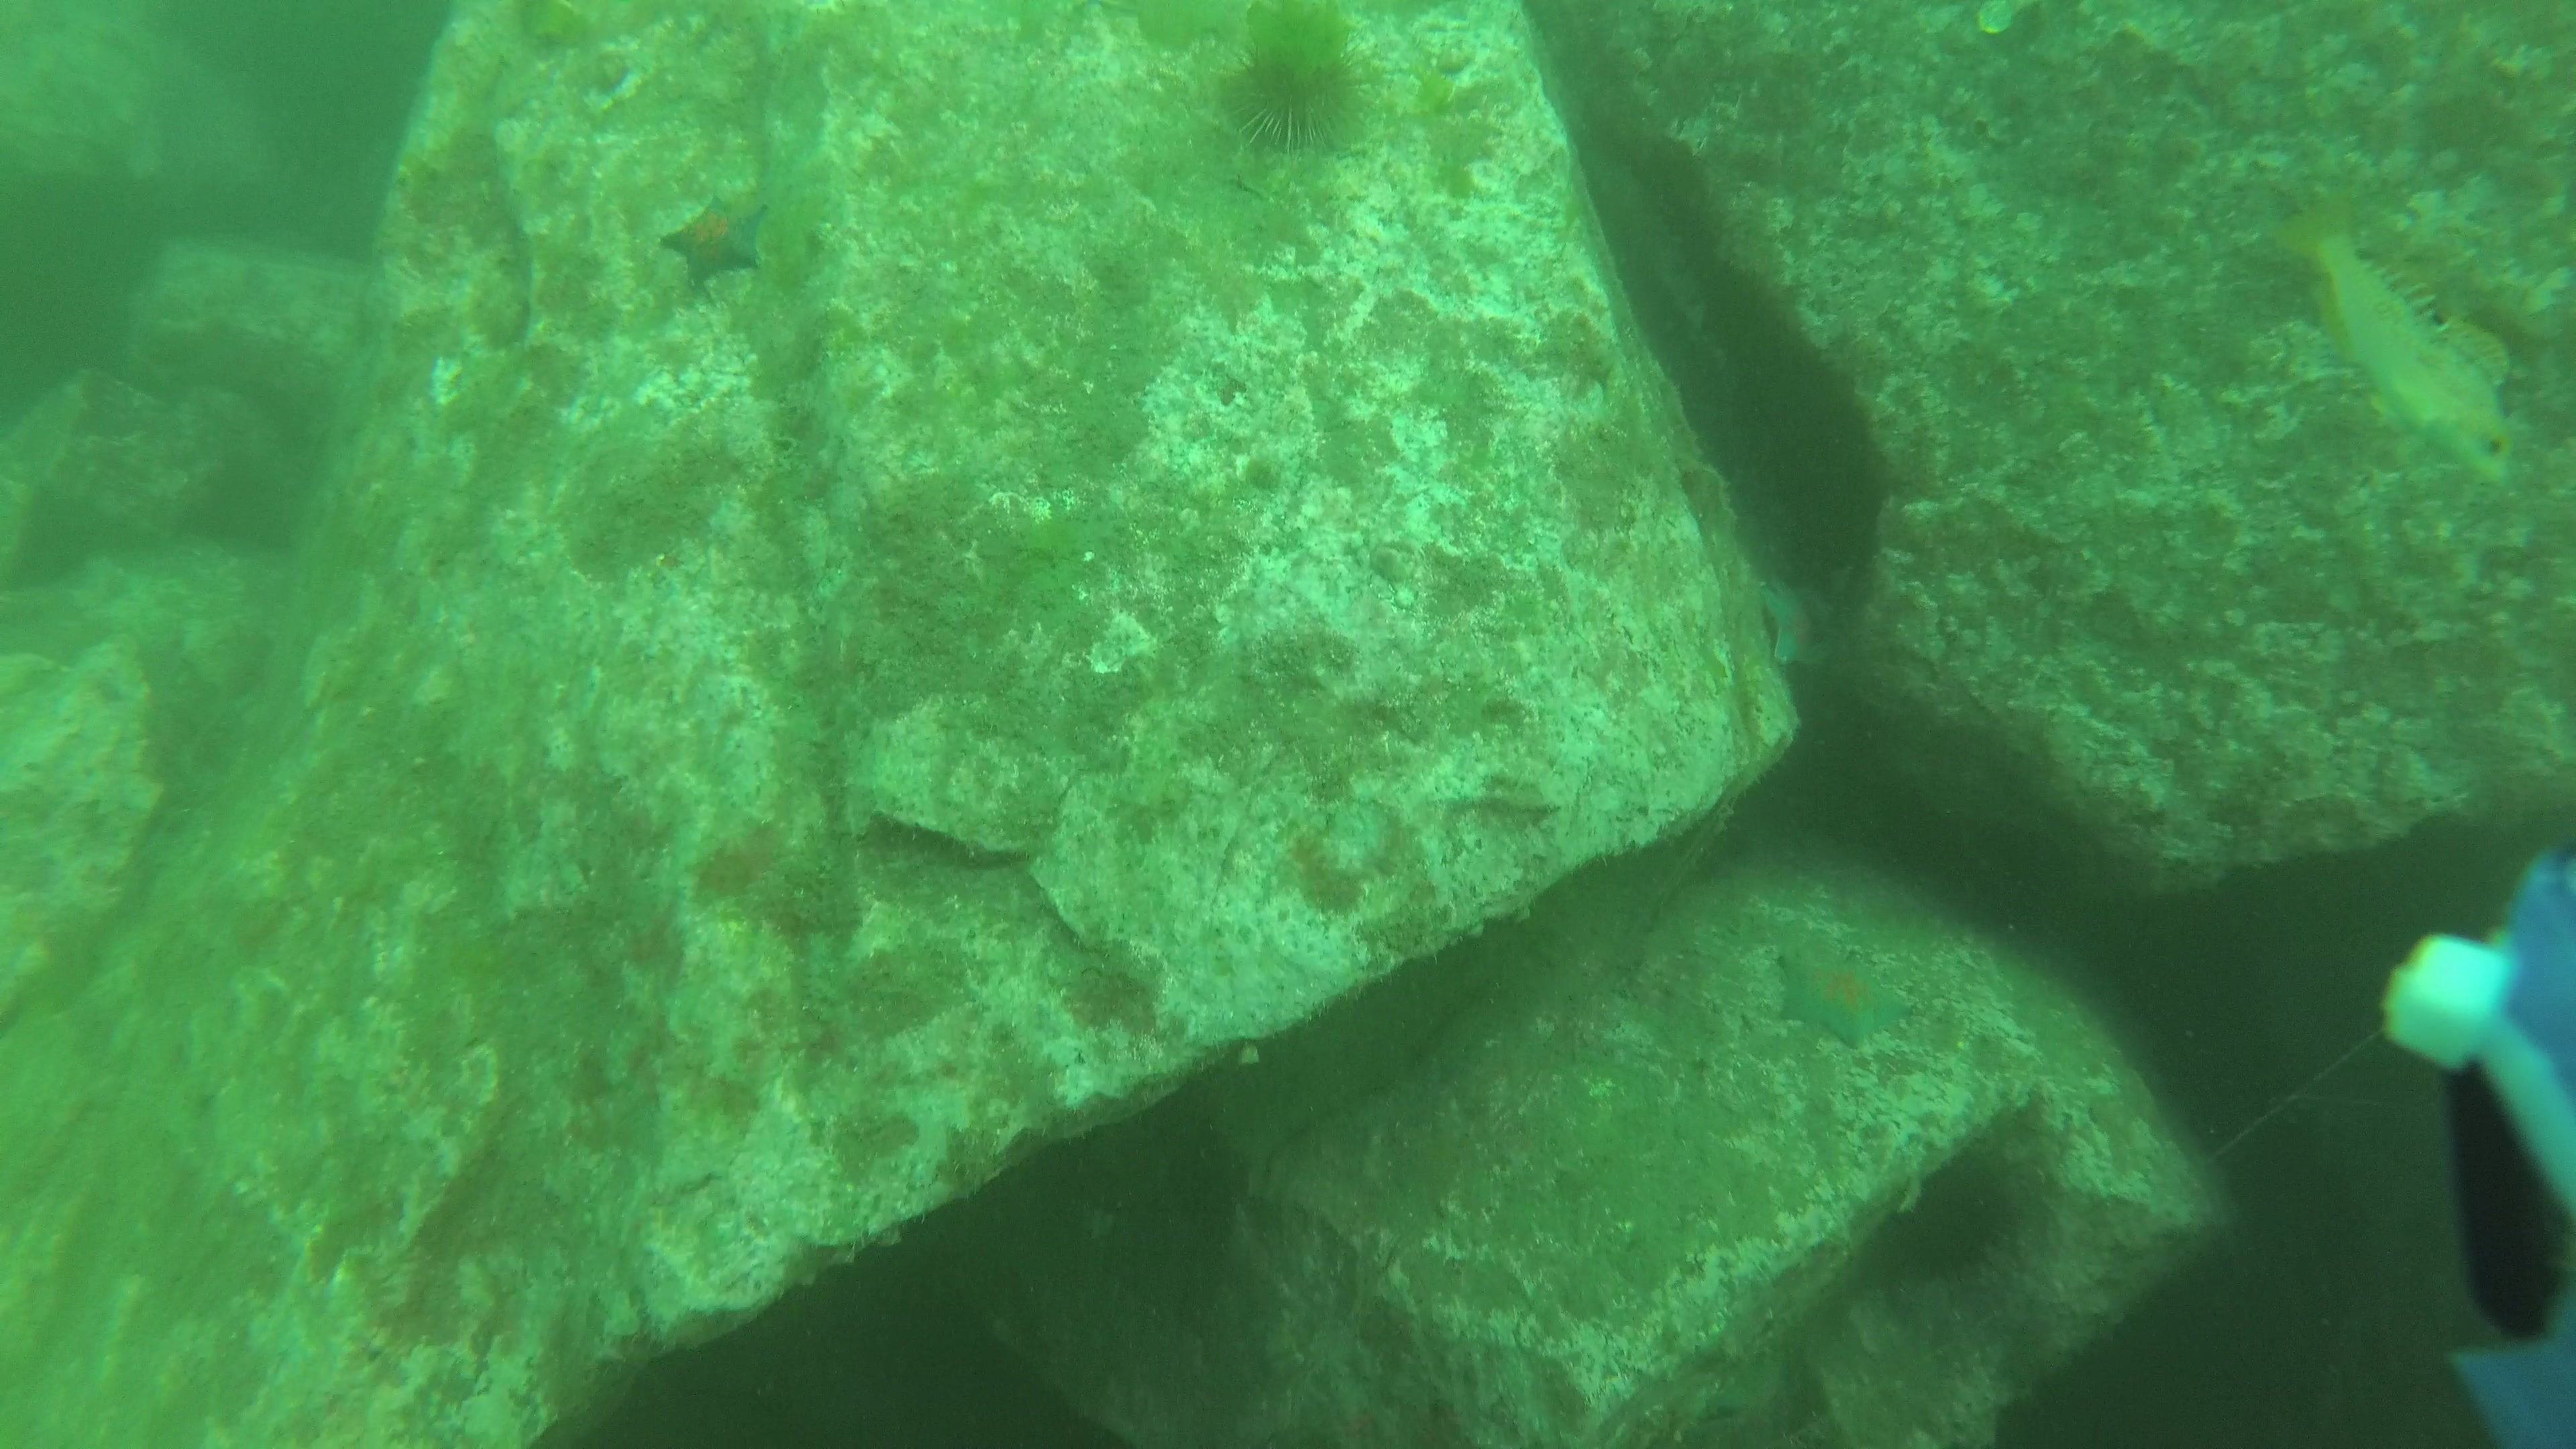echinus: (1865, 1146, 2031, 1297), (1212, 21, 1382, 168)
starfish: (1764, 941, 1925, 1053), (653, 186, 777, 290), (1748, 563, 1838, 674)
